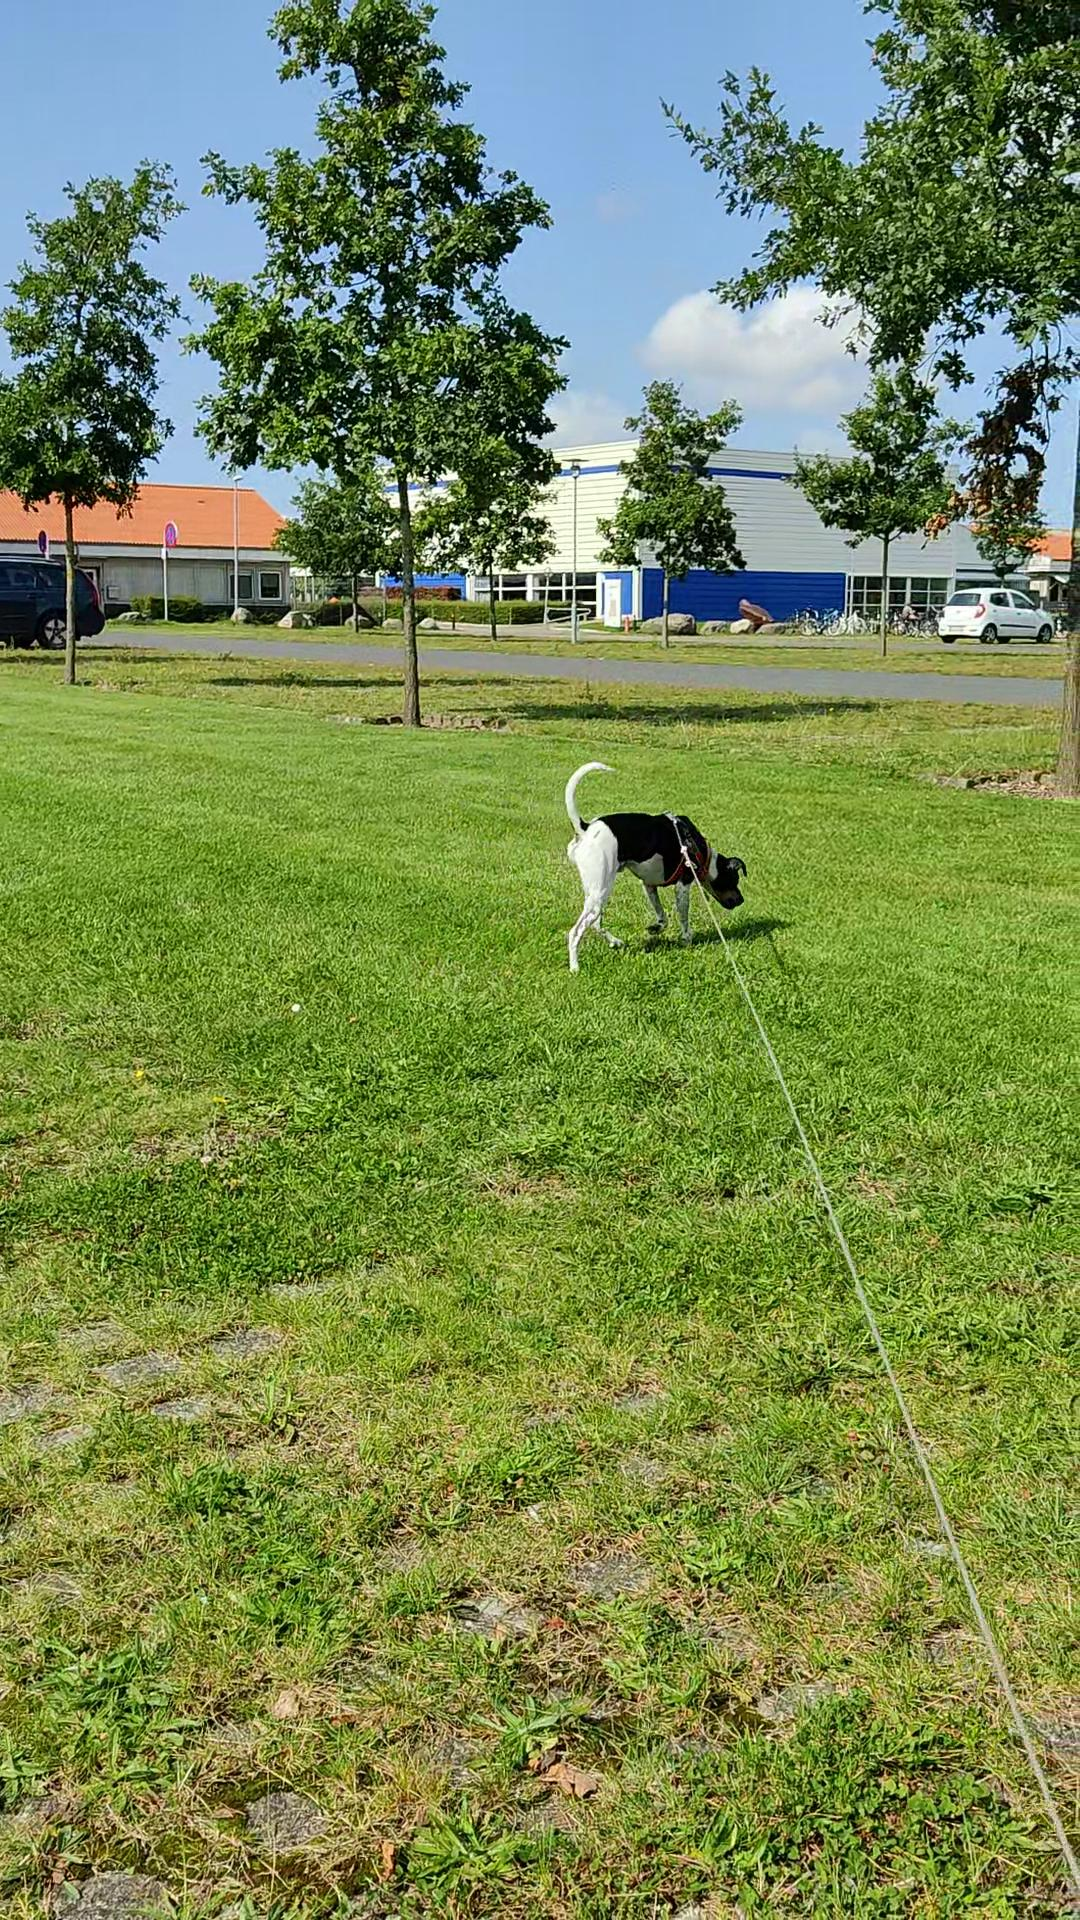Dog: (550, 757, 756, 973)
